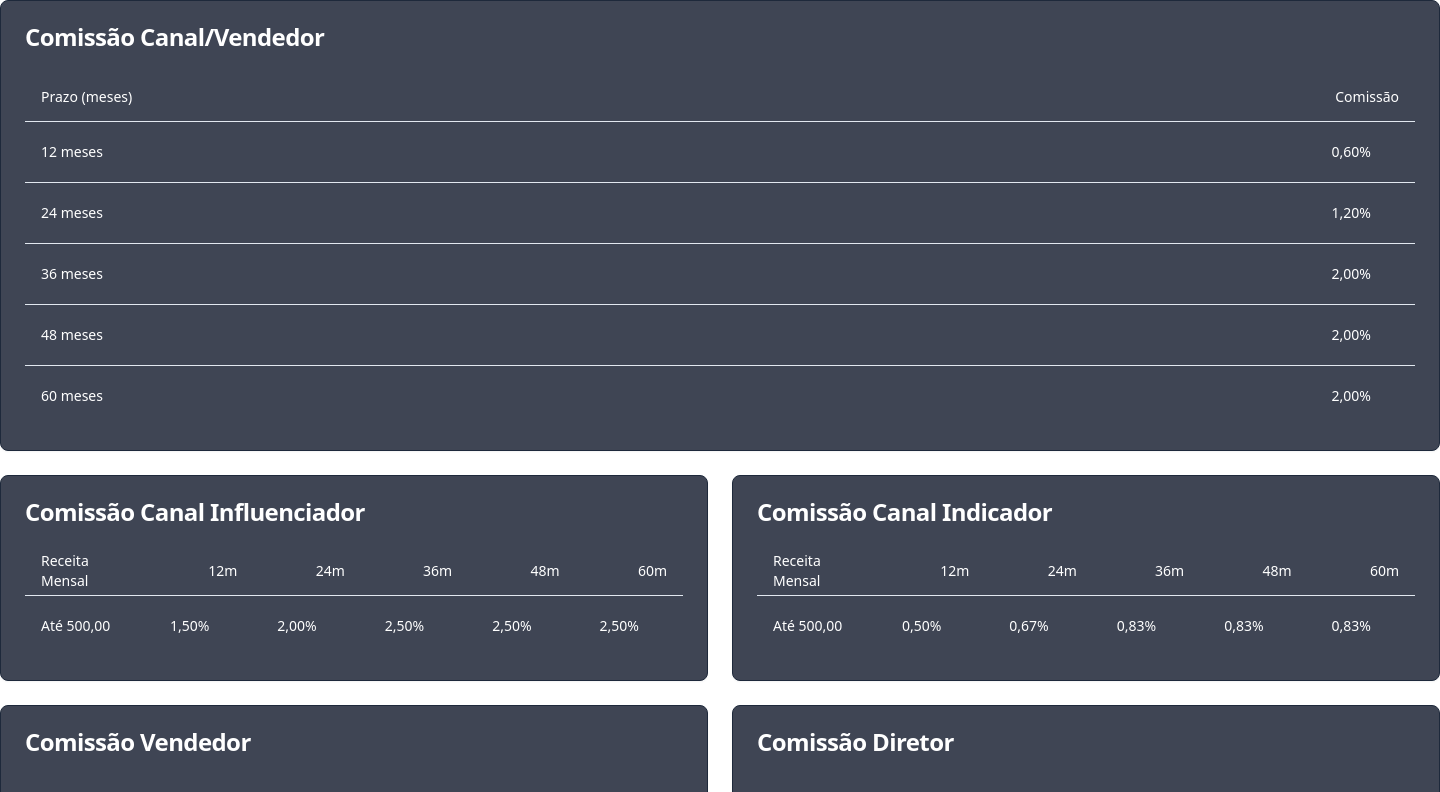
it: CommissionTablesUnified - Editable Mode › should handle edit cancellation
// Click on a commission value to edit
Click the text "0,60%". click: click(1351, 151)
box: [1332,142,1371,160]
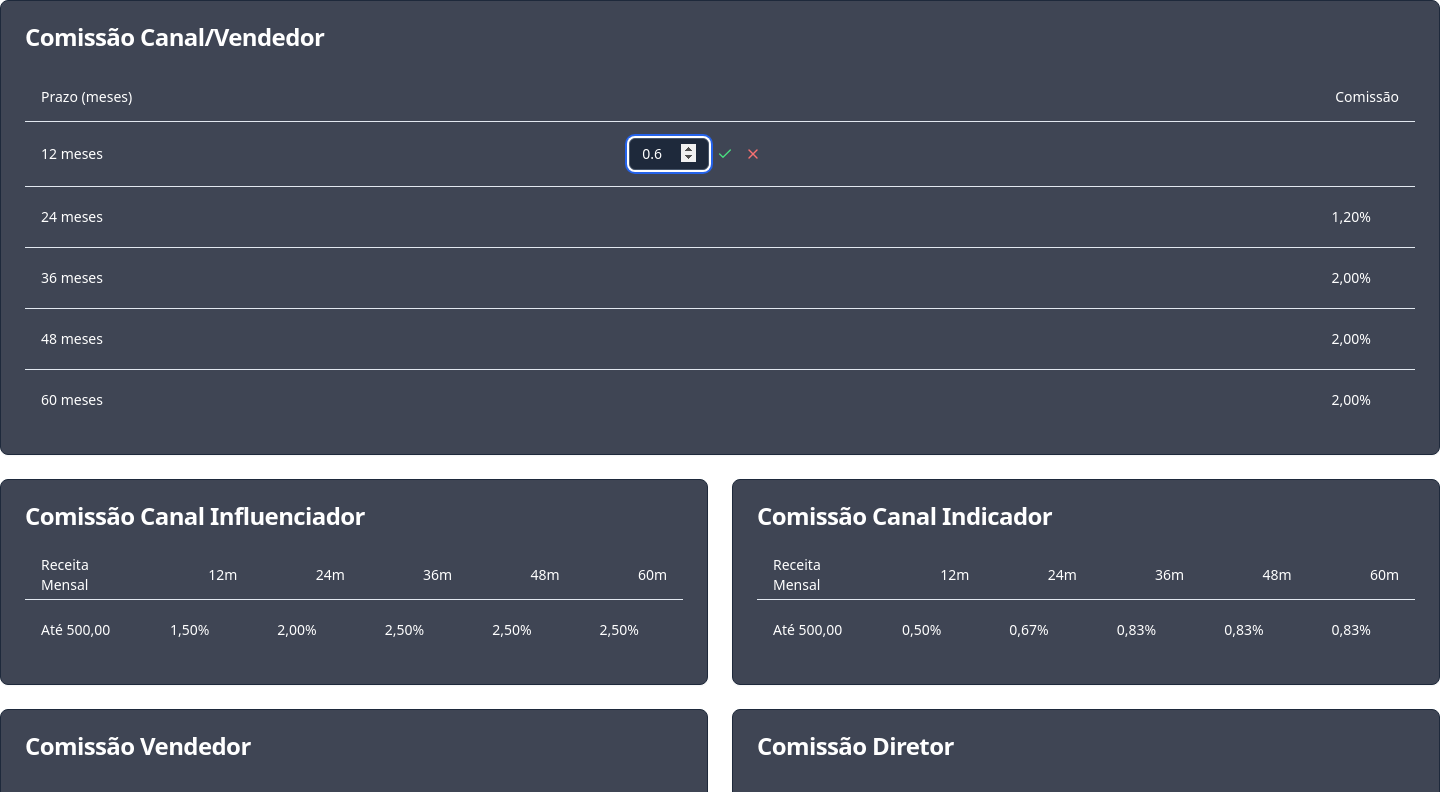
// Change value but cancel
Replace the text in the number field showing "0.6" with "1.5". click: (669, 154)
box: [629,138,709,170]
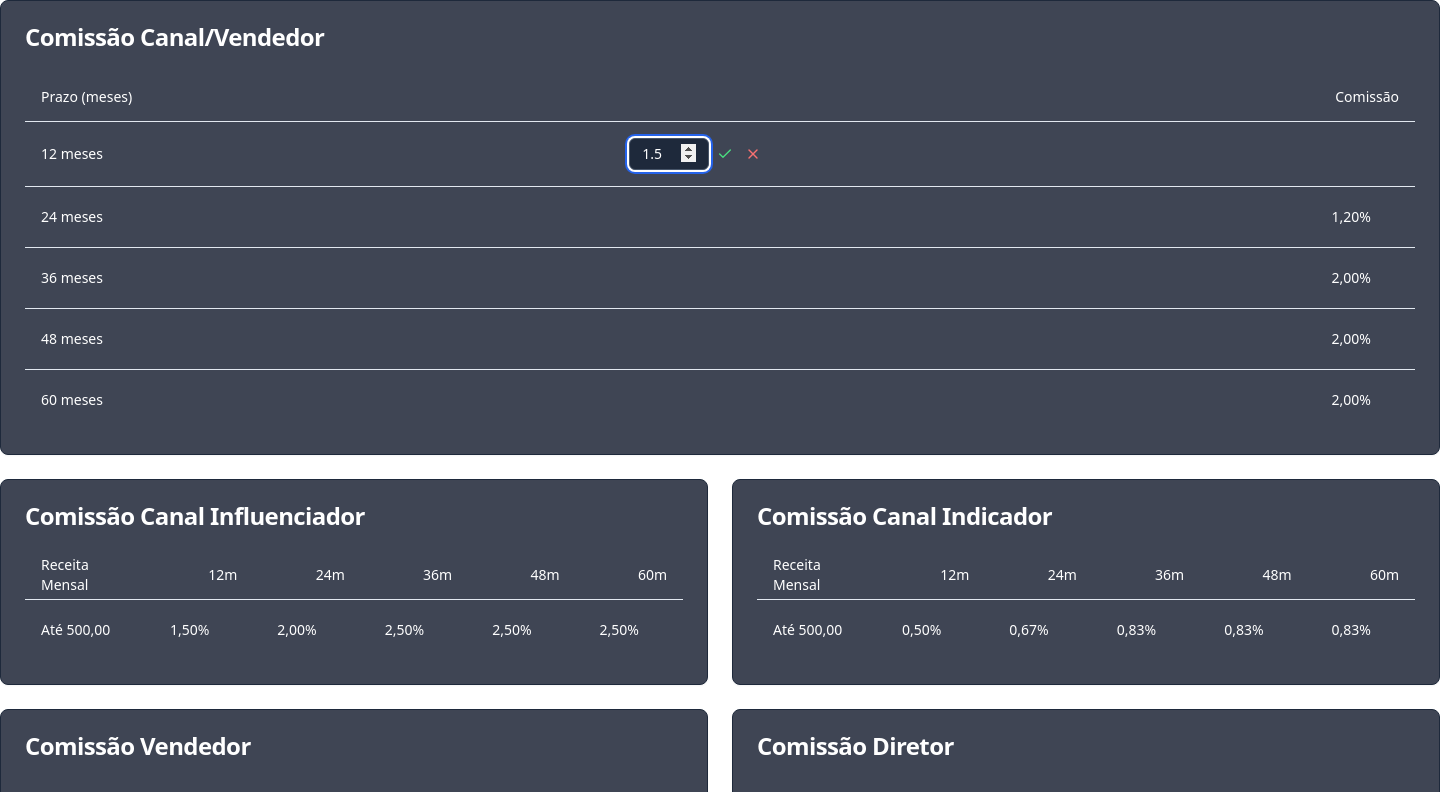
Press Escape in the number field showing "0.6", box [629,138,709,170]
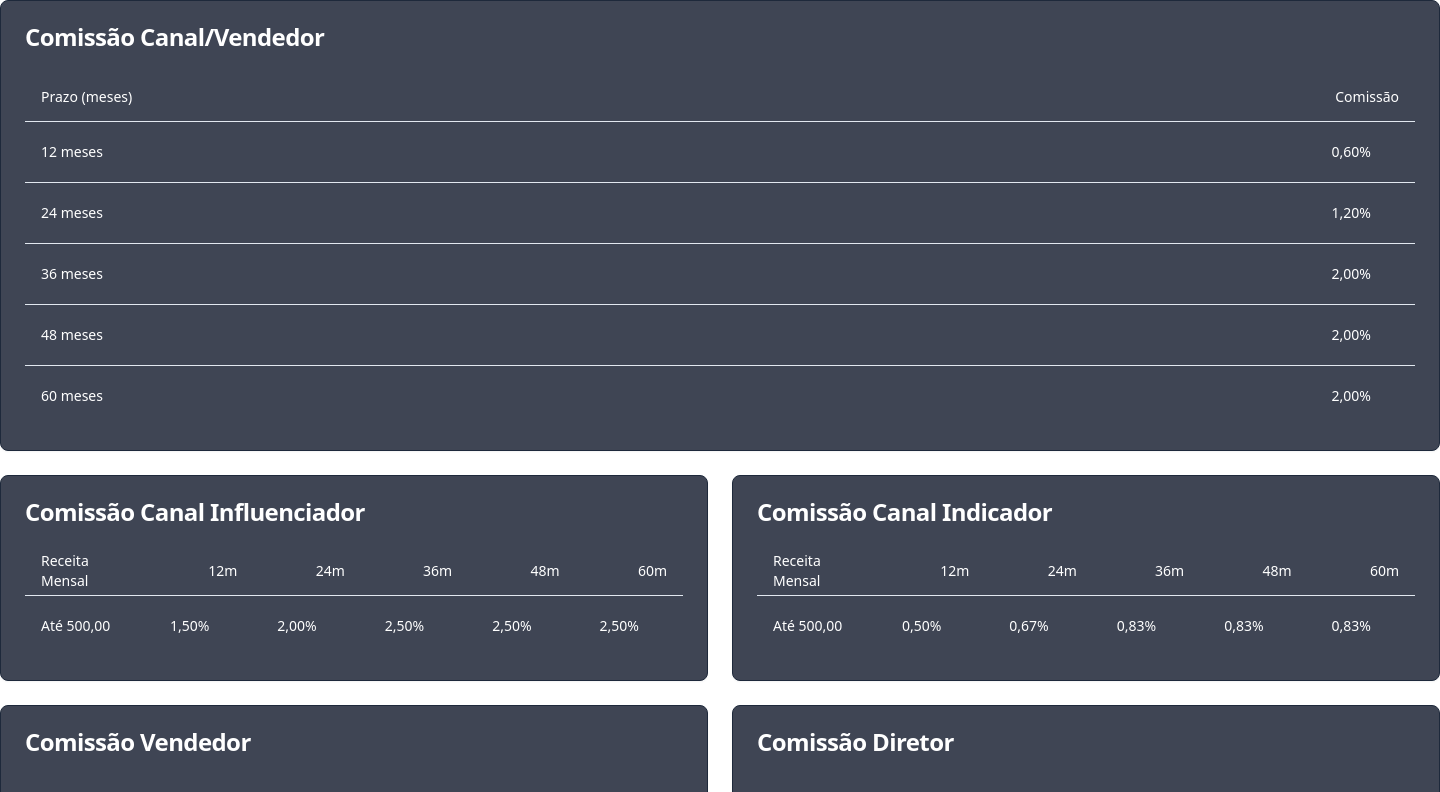
Result: the text "0,60%" is shown at [1332,142,1371,162]
